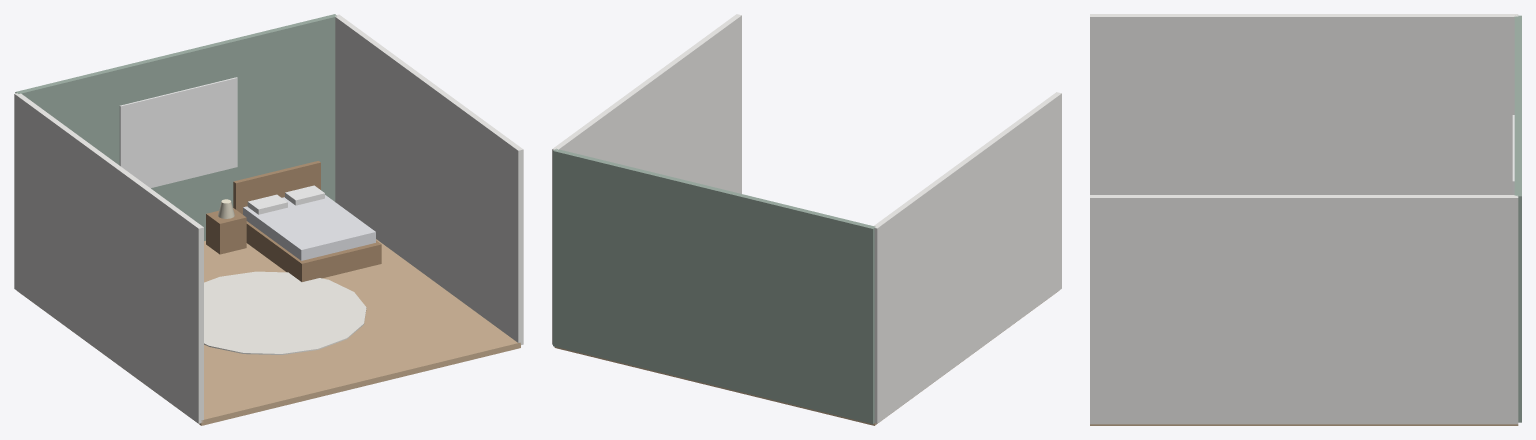
The model's file is cozy_bedroom.glb.
The picture shows the model from 3 angles, left to right: view 1: azimuth 30°, elevation 25°; view 2: azimuth 150°, elevation 25°; view 3: azimuth 270°, elevation 25°; orthographic projection. The views are drawn at different scales.
Parts seen in each view (by area): view 1: LeftWall, RightWall, BackWall, Floor, Area_Rug, Window_Frame, Bed_Duvet, Bed_Frame, Bed_Headboard, Nightstand, Pillow_L, Pillow_R; view 2: BackWall, LeftWall, RightWall, Floor; view 3: RightWall, LeftWall, BackWall, Floor.
Part boxes in pixels (<box>): LeftWall: <box>14,93,203,423</box>; RightWall: <box>335,14,523,344</box>; BackWall: <box>15,14,336,240</box>; Floor: <box>17,239,520,425</box>; Area_Rug: <box>204,271,366,354</box>; Window_Frame: <box>119,77,237,188</box>; Bed_Duvet: <box>243,195,375,260</box>; Bed_Frame: <box>246,221,381,281</box>; Bed_Headboard: <box>233,161,320,214</box>; Nightstand: <box>206,208,246,254</box>; Pillow_L: <box>247,194,287,214</box>; Pillow_R: <box>285,185,324,205</box>; BackWall: <box>553,148,875,424</box>; LeftWall: <box>874,92,1061,423</box>; RightWall: <box>552,14,741,344</box>; Floor: <box>554,292,1056,425</box>; RightWall: <box>1090,195,1518,424</box>; LeftWall: <box>1090,14,1518,194</box>; BackWall: <box>1514,15,1521,422</box>; Floor: <box>1090,424,1518,425</box>.
Size of the model in its own units: 6.1 by 3.55 by 6.05.
